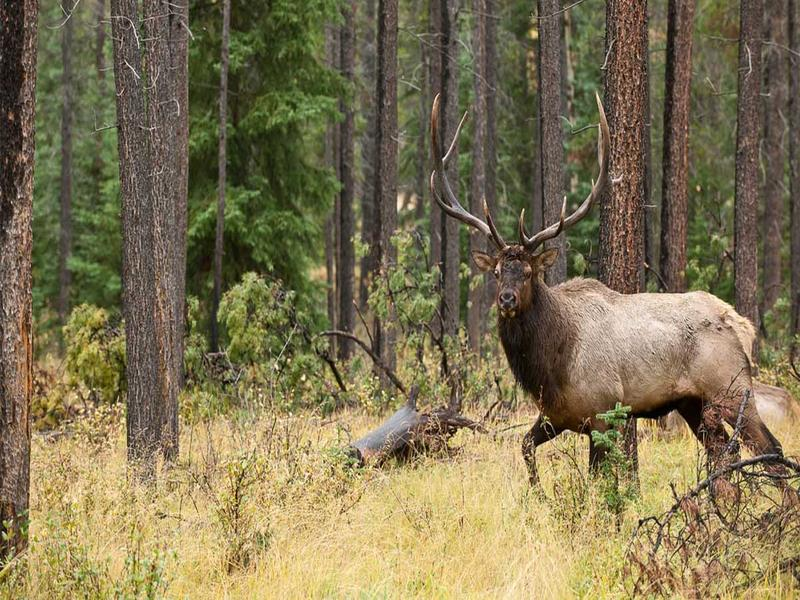elk: (426, 149, 795, 513)
